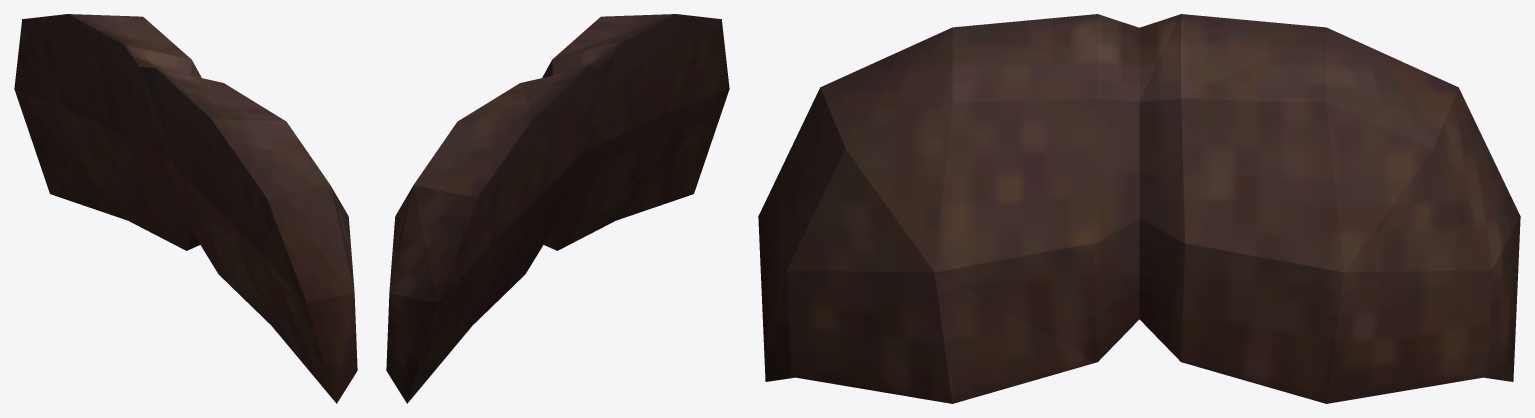
Rendered from MUSTACHE.fbx.
3 views of the same model, side by side, from view 1: azimuth 30°, elevation 25°; view 2: azimuth 150°, elevation 25°; view 3: azimuth 270°, elevation 25° (orthographic). The views are drawn at different scales.
Visible parts, largest first — view 1: MUSTACHE; view 2: MUSTACHE; view 3: MUSTACHE.
Boxes of the visible parts, left/top/right/bottom form: MUSTACHE: left=14, top=14, right=357, bottom=403; MUSTACHE: left=386, top=14, right=729, bottom=403; MUSTACHE: left=758, top=14, right=1520, bottom=403.
Size of the model in its own units: 3.51 by 6.22 by 12.88.
